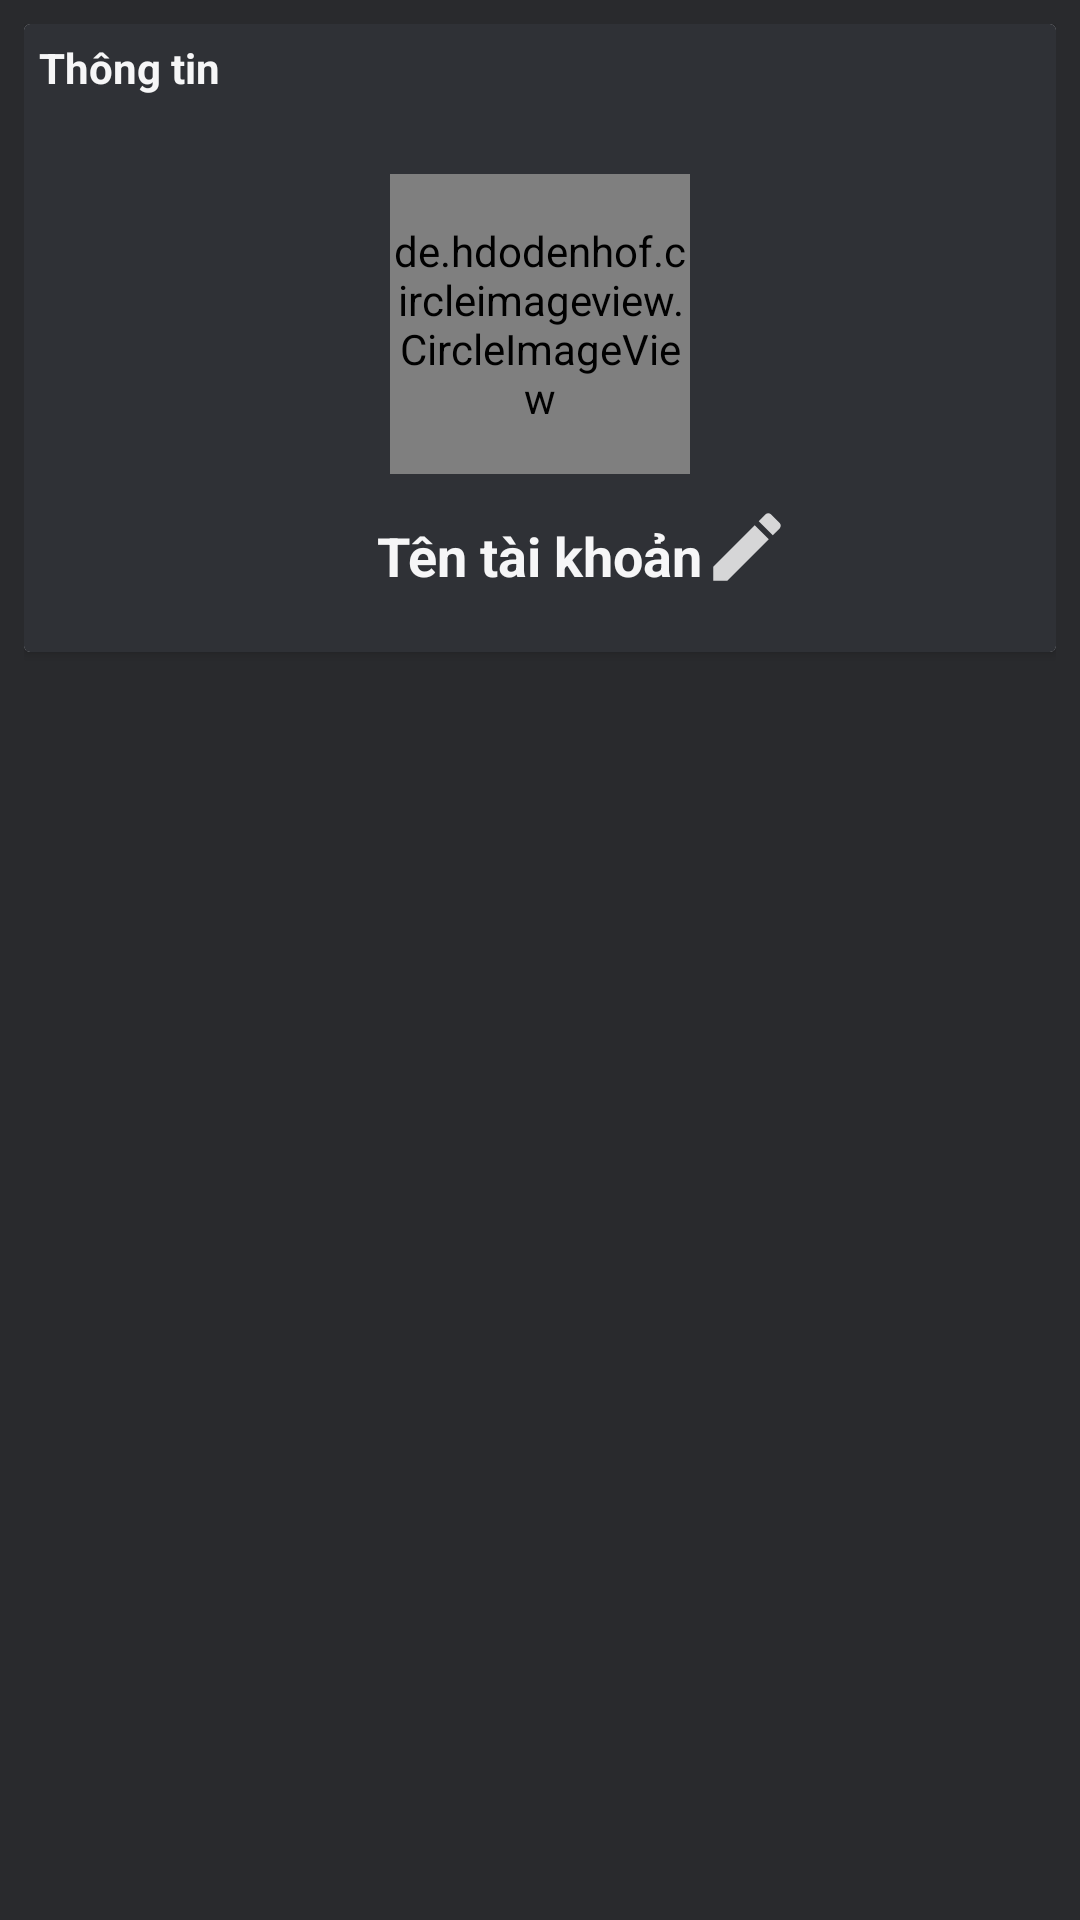

Named icons in this screenshot (1080×1920) and their centers, [x,y]:
edit: [747,547]
